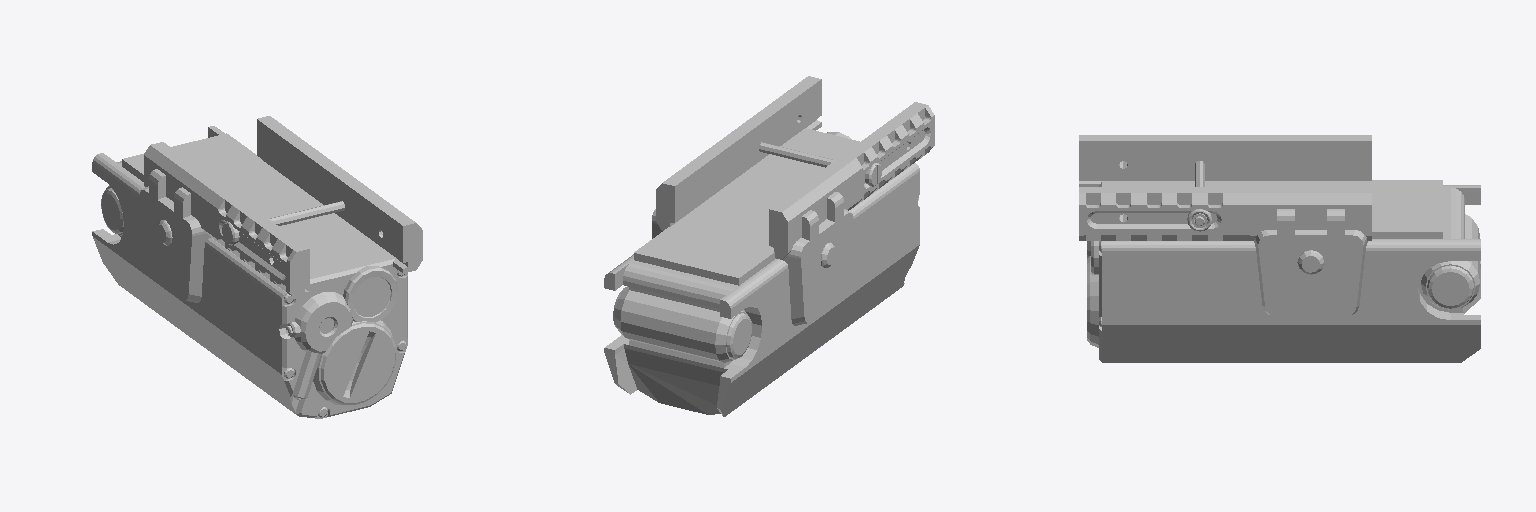
File: Glock_Laser.obj
3 renders of one model, left to right at view 1: azimuth 30°, elevation 25°; view 2: azimuth 150°, elevation 25°; view 3: azimuth 270°, elevation 25°, orthographic.
Parts seen in each view (by area): view 1: LaserMesh; view 2: LaserMesh; view 3: LaserMesh.
Boxes of the visible parts, <box> form: LaserMesh: <box>92,116,422,418</box>; LaserMesh: <box>604,76,934,416</box>; LaserMesh: <box>1079,135,1480,362</box>.
Size of the model in its own units: 3.98 by 4.43 by 8.76.